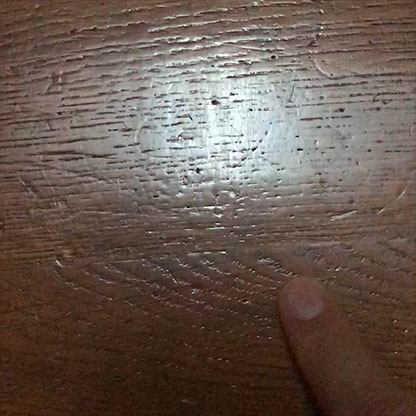fingertip: (268, 273, 344, 340)
